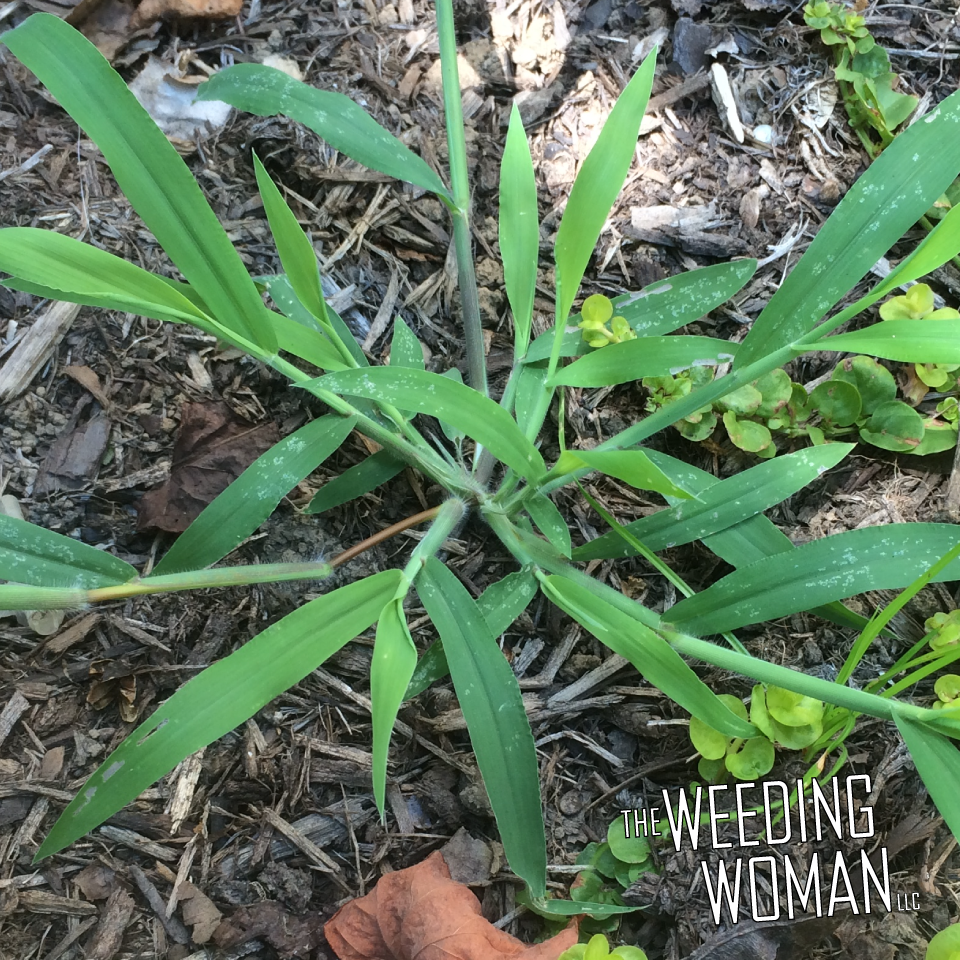crabgrass: (23, 36, 960, 802)
